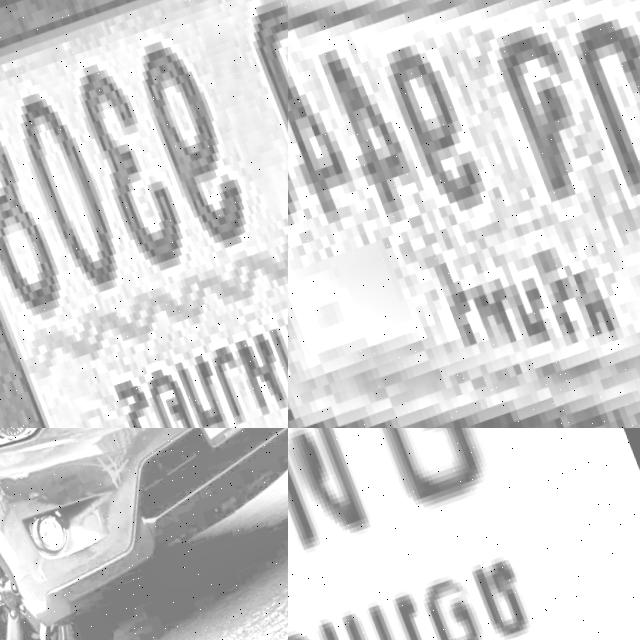license-plate: (288, 0, 640, 428), (0, 0, 288, 428), (288, 428, 640, 640), (160, 428, 288, 461)
